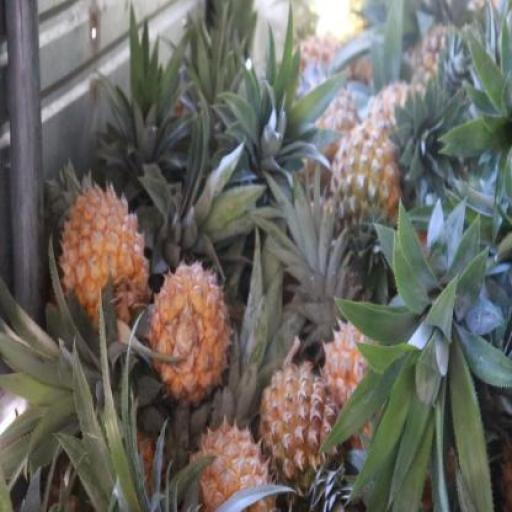Pineapple - v8 v1: (64, 182, 154, 329), (260, 356, 338, 503), (150, 259, 230, 393), (189, 411, 280, 512)
